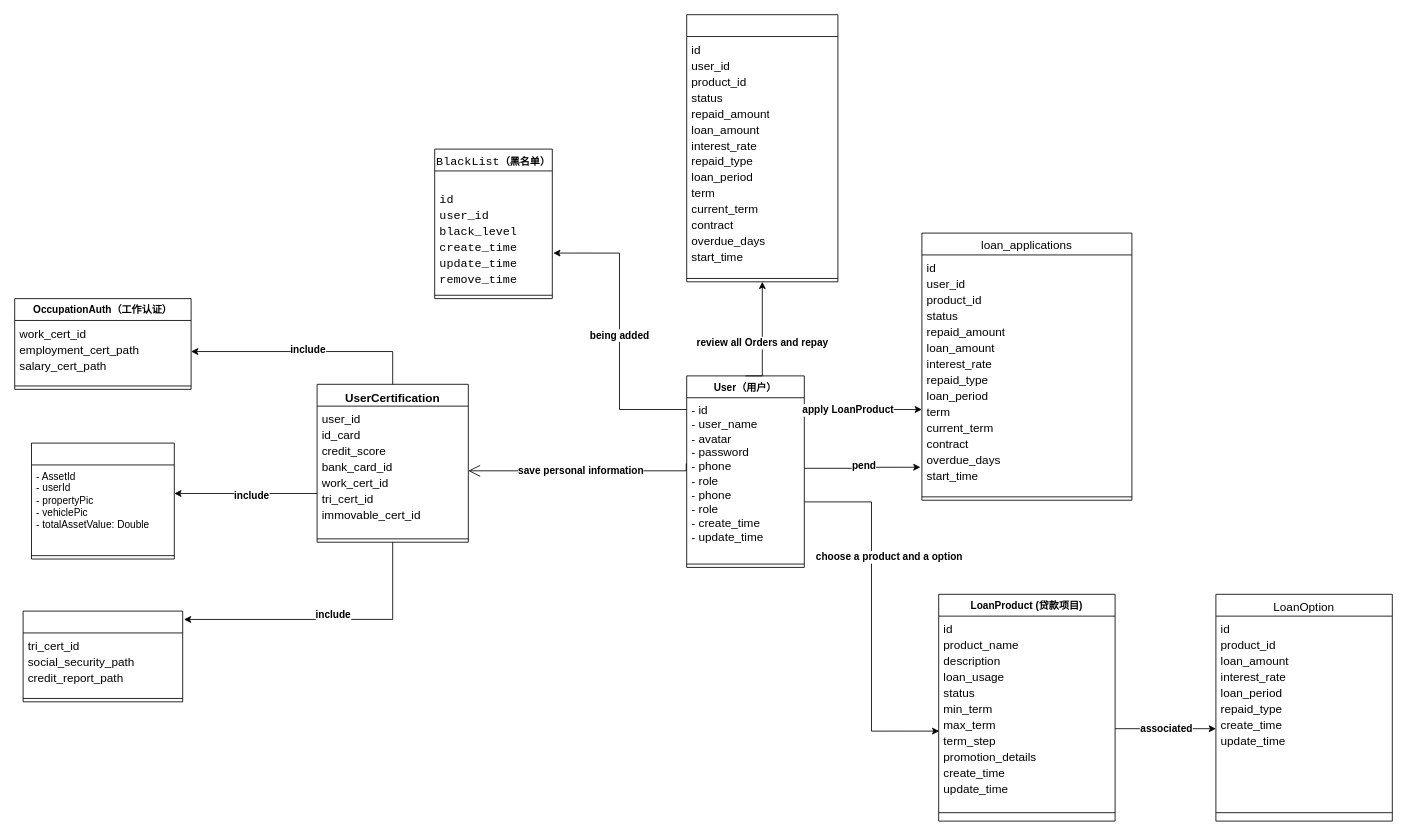
The diagram is 1407 pixels wide and 836 high, and some of its shapes have lost their labels. The shapes that lost their labels are listed below. From the top down, each one's box as (x1, y1, x2, y2) in pixels, then its label:
(686, 14, 838, 282): Orders（用户已贷款项目）
(31, 442, 174, 559): AssetAuth (资产认证)
(22, 610, 183, 702): ThirdPartyAuth（第三方认证）
